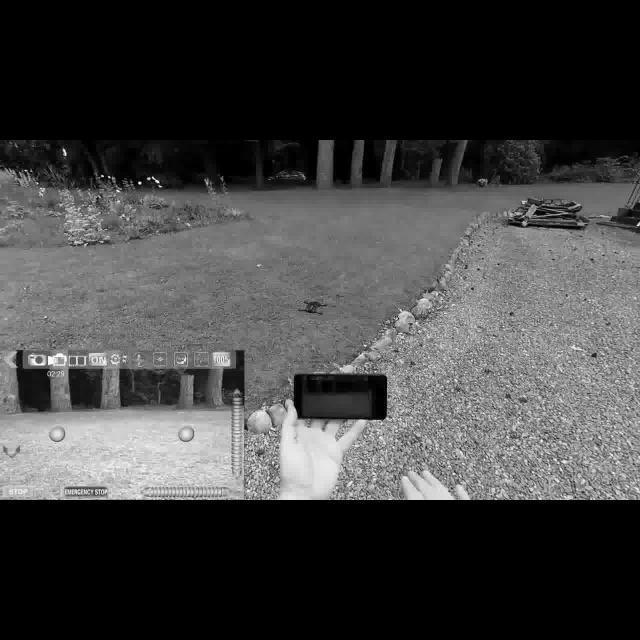Drons: (296, 295, 334, 321)
